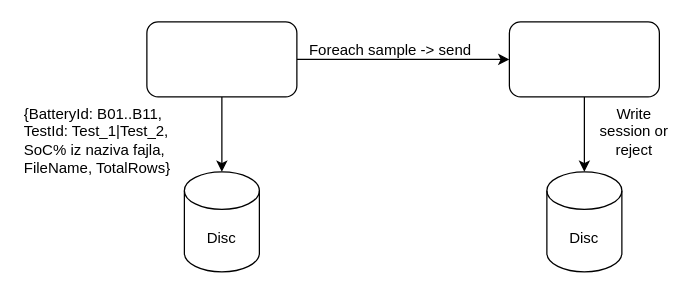
This 693x294 diagram has some shape labels left out. Here are the shapes that lost their labels. From the top down, the centre of each, then its label:
At pixel 221 59: "Client".
At pixel 583 59: "Service".
